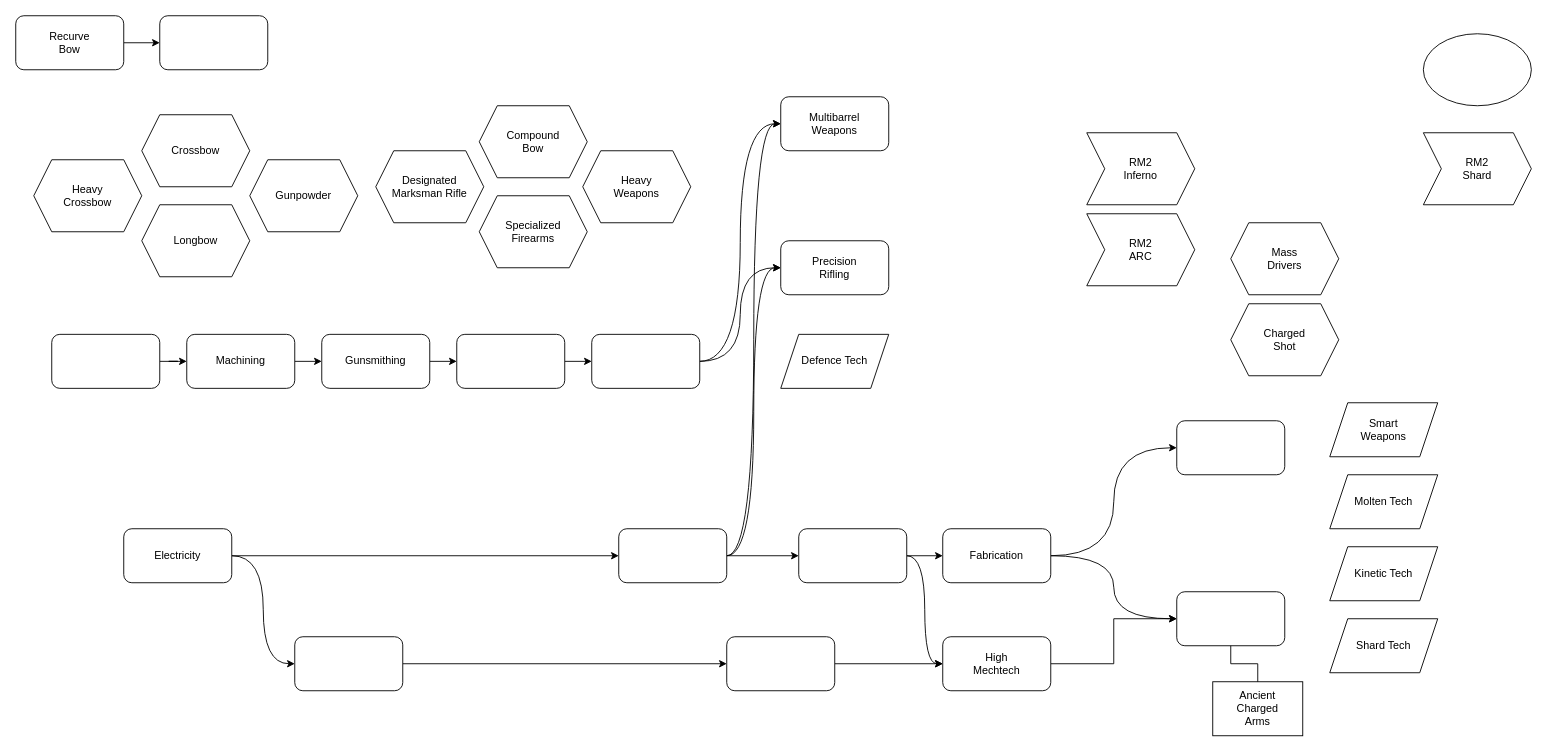
Image size: 1547x752. Some labels were removed from this diagram. The shapes that lost their labels are listed below. From the top down, each one's centre as x and y in pixels, then its label:
At [213,42]: "Great Bow".
At [1476,69]: "Eltex Weaponry".
At [105,360]: "Smithing".
At [510,360]: "Blowback Operation".
At [645,360]: "Gas Operation".
At [1230,447]: "Pulse-Charged Munitions".
At [672,555]: "Micro- Electronics".
At [852,555]: "Multi- Analyzer".
At [1230,618]: "Ultra Mechtech".
At [348,663]: "Basic Mechtech".
At [780,663]: "Standard Mechtech".
